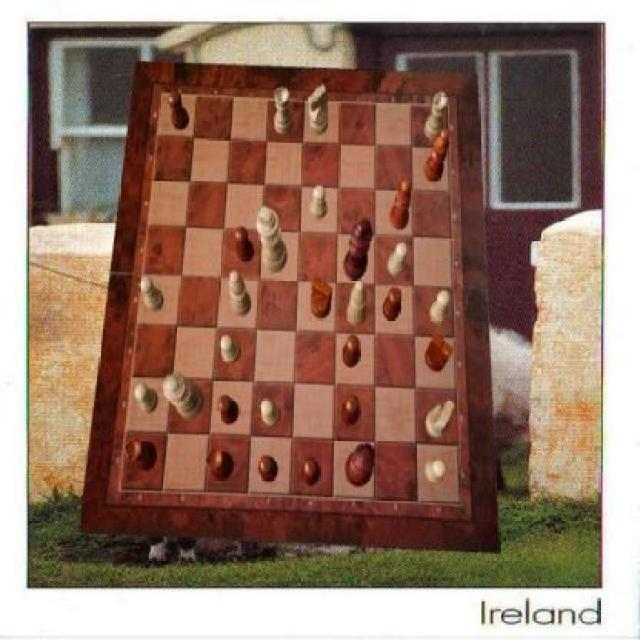bishop: (426, 129, 451, 183), (389, 180, 412, 231)
black-bishop: (343, 217, 373, 279)
black-king: (426, 334, 454, 372), (311, 275, 333, 318)
black-knight: (169, 91, 189, 129), (236, 228, 256, 262), (217, 396, 239, 424), (383, 288, 401, 322), (342, 336, 359, 370), (302, 457, 321, 486), (342, 396, 361, 424), (258, 456, 278, 482)
black-pawn: (346, 443, 376, 487)
black-queen: (125, 438, 157, 472), (206, 449, 234, 482)
black-rook: (230, 271, 252, 317), (348, 280, 368, 326)
white-bishop: (257, 206, 288, 272)
white-king: (424, 400, 454, 438), (308, 84, 328, 136)
white-knight: (140, 277, 165, 311), (136, 383, 160, 414), (431, 289, 452, 324), (388, 242, 408, 276), (310, 185, 328, 219), (220, 337, 241, 365), (425, 458, 447, 484), (260, 400, 280, 428)
white-pawn: (163, 374, 204, 420)
white-queen: (424, 91, 448, 140), (276, 88, 294, 135)
